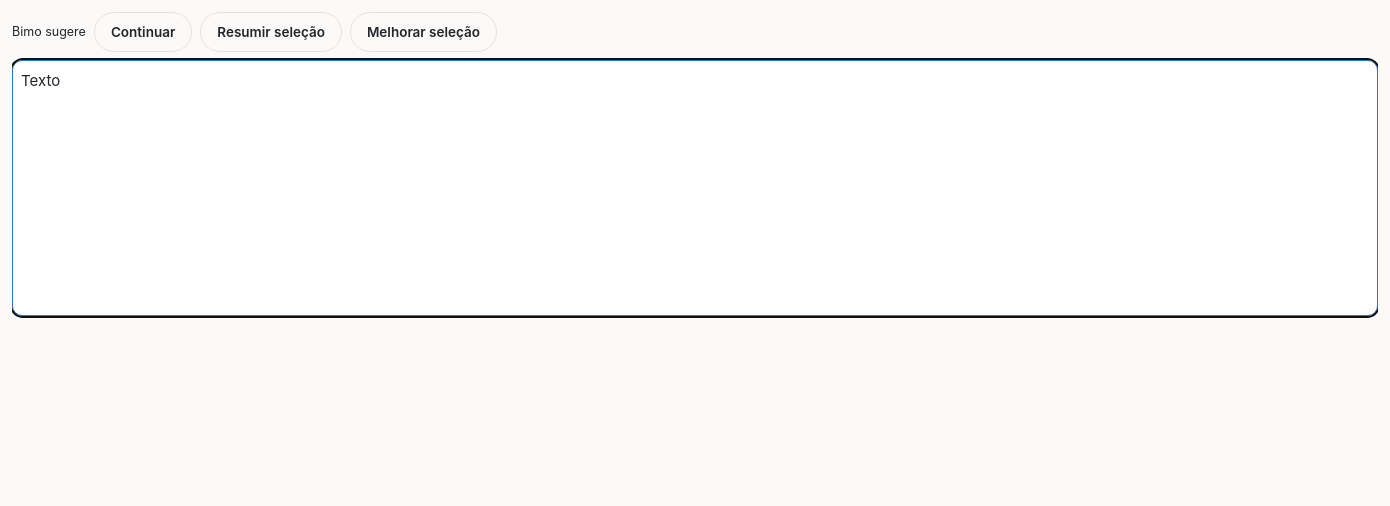
Scenario: Bimo sugere (rascunho) › a proposta é texto puro: HTML e Markdown do modelo não são interpretados
Step 1. Click the button "Continuar" → (143, 32), box left=94, top=12, right=192, bottom=52
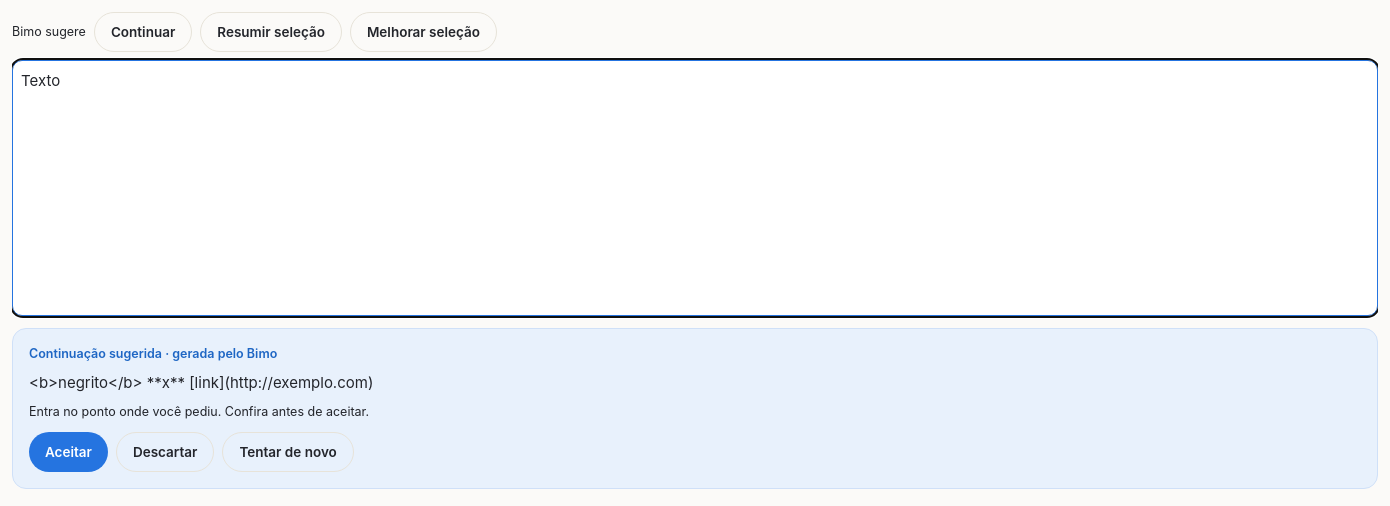
Check: the text "<b>negrito</b> **x** [link](http://exemplo.com)" is shown, box left=29, top=372, right=373, bottom=392
